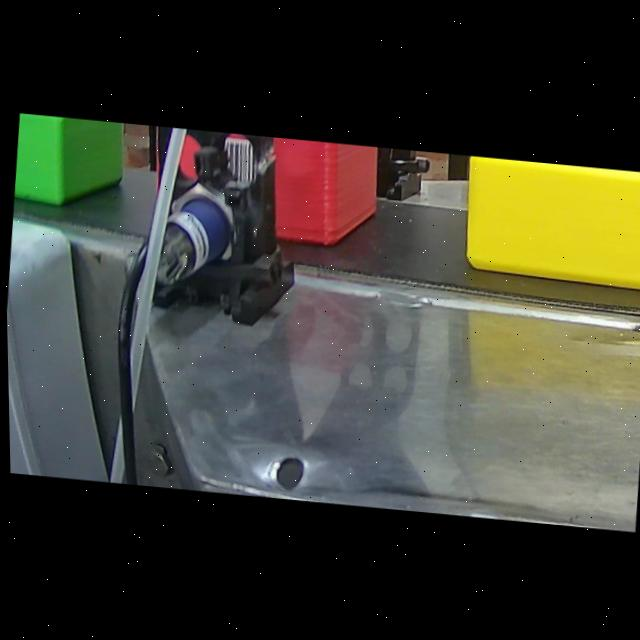greenBox: (11, 113, 136, 223)
redBox: (145, 126, 390, 262)
yellowBox: (454, 155, 640, 301)
